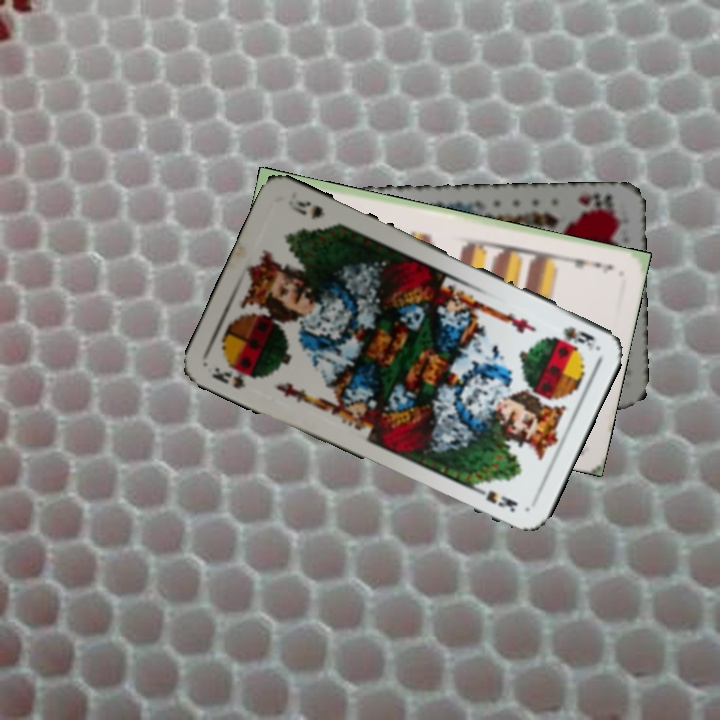E7: (563, 251, 616, 276)
HK: (573, 189, 616, 216)
SK: (207, 361, 259, 392), (559, 322, 600, 353)
